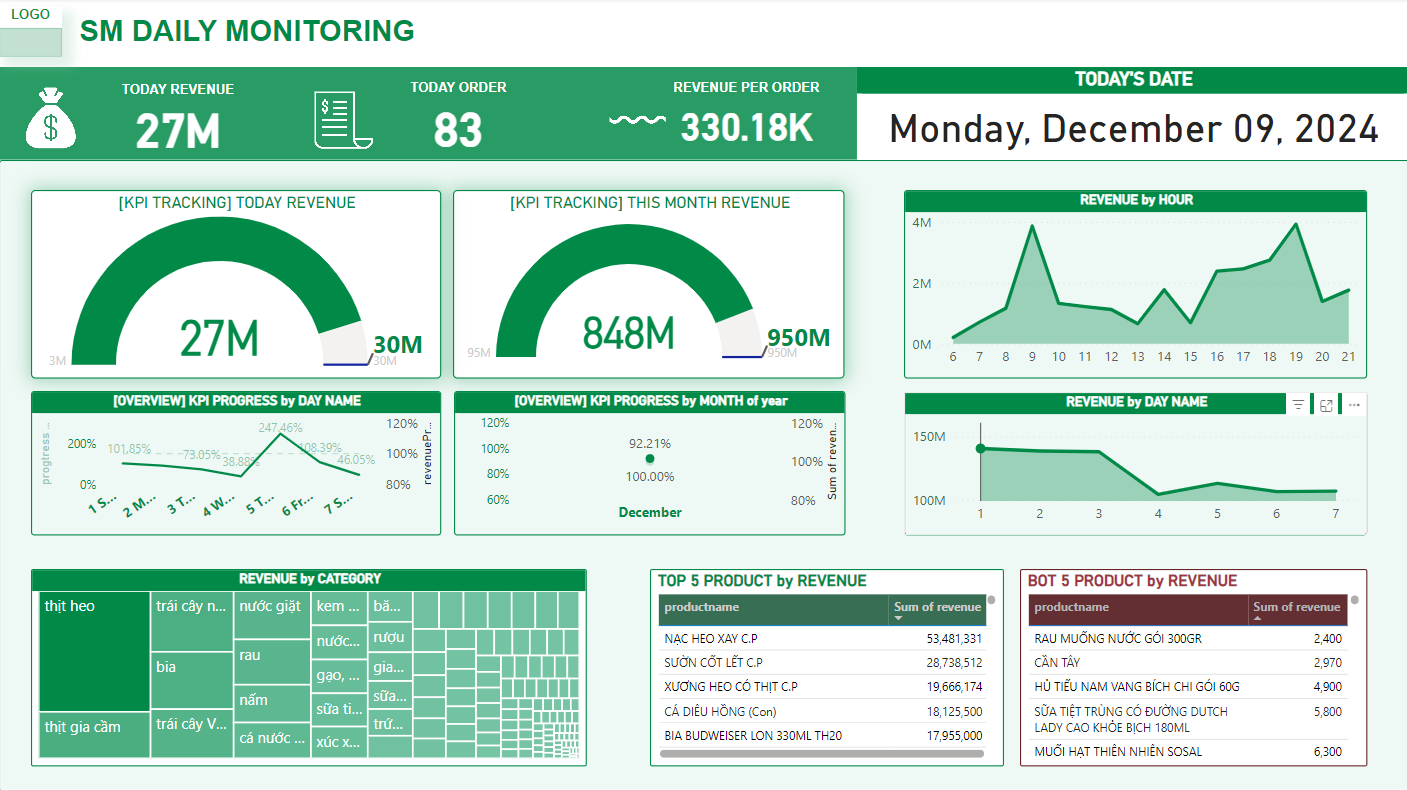

The page's visual inventory and layout, read from the dashboard file:
{"tool":"powerbi","page":{"name":"[SM] Daily Monitoring","canvas":[1280,720],"ordinal":0},"visuals":[{"type":"shape","box":[0,147.3,1280,572.9],"z":1000},{"type":"shape","box":[0,62.6,778,84.3],"z":2000},{"type":"shape","title":"LOGO","box":[0,8.2,57.1,45.3],"z":3000},{"type":"textbox","box":[68,10,332.8,40.8],"z":4000},{"type":"card","title":"TODAY REVENUE","fields":{"Values":["card_viz.sumOfRevenue"]},"box":[78.9,76.2,166.9,65.3],"z":5000},{"type":"card","title":"TODAY ORDER","fields":{"Values":["card_viz.card_numberOfOrder"]},"box":[343.7,74.4,146,66.2],"z":6000},{"type":"treemap","title":"REVENUE by CATEGORY","fields":{"Group":["revenue.categoryname"],"Values":["Sum(revenue.revenue)"]},"box":[29,517.8,504.2,178.6],"z":7000},{"type":"card","title":"REVENUE PER ORDER","fields":{"Values":["card_viz.card_revenuePerOrder"]},"box":[604.5,74.4,146,66.2],"z":8000,"group":"g1"},{"type":"gauge","title":"[KPI TRACKING] THIS MONTH REVENUE","fields":{"Y":["gauge_viz.monthly_value"],"MinValue":["gauge_viz.monthly_minValue"],"MaxValue":["gauge_viz.monthly_target"],"TargetValue":["gauge_viz.monthly_target"]},"box":[411.7,174.1,355.5,171.4],"z":8000},{"type":"gauge","title":"[KPI TRACKING]  TODAY REVENUE","fields":{"Y":["gauge_viz.daily_value"],"TargetValue":["gauge_viz.daily_target"],"MinValue":["gauge_viz.daily_minValue"],"MaxValue":["gauge_viz.daily_target"]},"box":[29,174.1,371.8,171.4],"z":9000},{"type":"tableEx","title":"TOP 5 PRODUCT by REVENUE","fields":{"Values":["revenue.productname","Sum(revenue.revenue)"]},"box":[590.3,517.8,321,178.6],"z":10000},{"type":"lineChart","title":"[OVERVIEW] KPI PROGRESS by MONTH of year","fields":{"Category":["monthly_kpi_tracking.Month"],"Y2":["Sum(monthly_kpi_tracking.revenueProgress_baseline)"],"Y":["Sum(monthly_kpi_tracking.revenueProgress_completed)"]},"box":[412.6,356.4,355.5,130.6],"z":11000},{"type":"image","box":[15.4,76.2,63.5,65.3],"z":12000},{"type":"image","box":[281.1,79.9,62.6,61.7],"z":13000},{"type":"image","box":[548.6,79.7,61.3,61.3],"z":14000,"group":"g1"},{"type":"tableEx","title":"BOT 5 PRODUCT by REVENUE","fields":{"Values":["revenue.productname","Sum(revenue.revenue)"]},"box":[925.8,517.8,314.7,178.6],"z":14000},{"type":"lineChart","title":"REVENUE by HOUR","fields":{"Category":["revenue.hour"],"Y":["card_viz.card_revenue"]},"box":[820.7,174.1,419.8,171.4],"z":15000},{"type":"lineChart","title":"REVENUE by DAY NAME","fields":{"Y":["Sum(revenue.revenue)"],"Category":["revenue.weekday"]},"box":[820.6,356.8,420.1,129.9],"z":16000},{"type":"lineChart","title":"[OVERVIEW] KPI PROGRESS by DAY NAME","fields":{"Y":["Sum(FilteredTable.revenueProgress_completed)"],"Y2":["FilteredTable.revenueProgress_baseline"],"Category":["KPI_tracking.Day","KPI_tracking.DayName"]},"box":[29,356.4,371.8,130.6],"z":17000},{"type":"group","id":"g1","title":"Group 1","box":[548.6,74.4,201.9,66.6],"z":18000},{"type":"card","title":"TODAY''S DATE","fields":{"Values":["revenue.today"]},"box":[778,62.6,502.4,84.3],"z":19000}]}

Visuals, with their boxes in screenshot pixels (x1, y1, x2, y2), scaled from the page's 1280x720 canvas onto the 1407x790 screenshot:
shape: (left=0, top=162, right=1406, bottom=789)
shape: (left=0, top=69, right=855, bottom=161)
"LOGO" shape: (left=0, top=9, right=63, bottom=59)
textbox: (left=75, top=11, right=441, bottom=56)
"TODAY REVENUE" card: (left=87, top=84, right=270, bottom=155)
"TODAY ORDER" card: (left=378, top=82, right=538, bottom=154)
"REVENUE by CATEGORY" treemap: (left=32, top=568, right=586, bottom=764)
"REVENUE PER ORDER" card: (left=664, top=82, right=825, bottom=154)
"[KPI TRACKING] THIS MONTH REVENUE" gauge: (left=453, top=191, right=843, bottom=379)
"[KPI TRACKING]  TODAY REVENUE" gauge: (left=32, top=191, right=441, bottom=379)
"TOP 5 PRODUCT by REVENUE" tableEx: (left=649, top=568, right=1002, bottom=764)
"[OVERVIEW] KPI PROGRESS by MONTH of year" lineChart: (left=454, top=391, right=844, bottom=534)
image: (left=17, top=84, right=87, bottom=155)
image: (left=309, top=88, right=378, bottom=155)
image: (left=603, top=87, right=670, bottom=155)
"BOT 5 PRODUCT by REVENUE" tableEx: (left=1018, top=568, right=1364, bottom=764)
"REVENUE by HOUR" lineChart: (left=902, top=191, right=1364, bottom=379)
"REVENUE by DAY NAME" lineChart: (left=902, top=391, right=1364, bottom=534)
"[OVERVIEW] KPI PROGRESS by DAY NAME" lineChart: (left=32, top=391, right=441, bottom=534)
"Group 1" group: (left=603, top=82, right=825, bottom=155)
"TODAY''S DATE" card: (left=855, top=69, right=1406, bottom=161)
